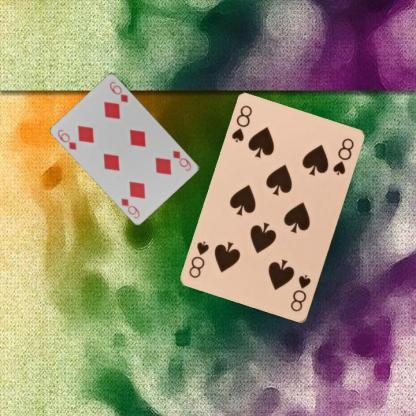6d: (55, 126, 78, 152), (170, 148, 193, 172)
8s: (229, 103, 254, 144), (288, 272, 312, 313)
